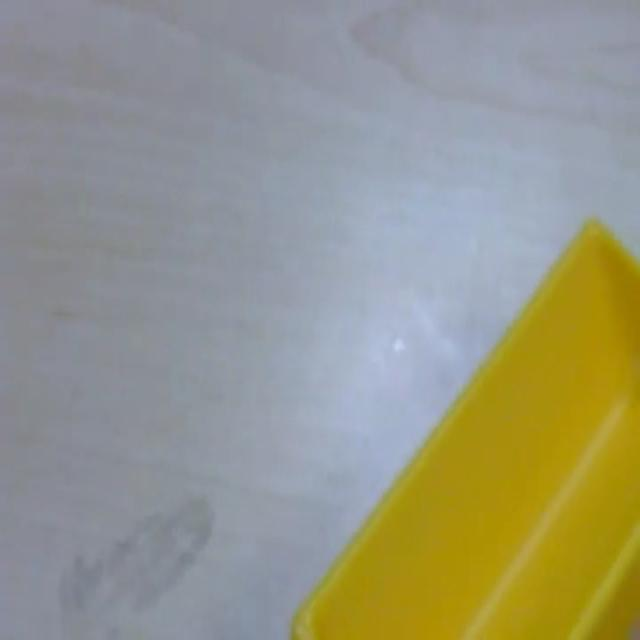yellow_block: (289, 213, 638, 638)
